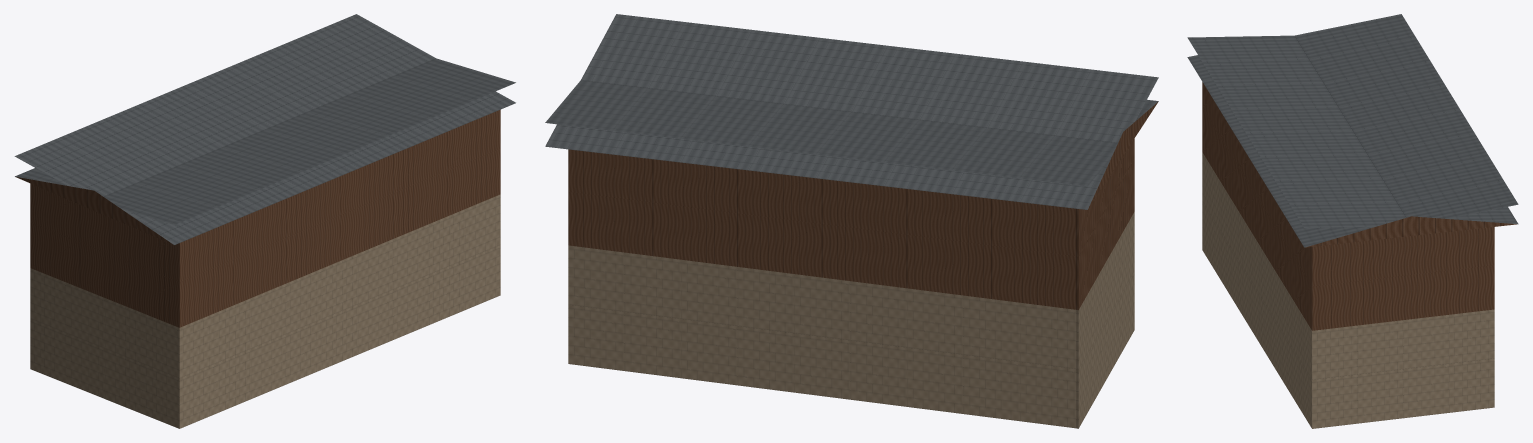
Rendered from bld_c-22_-22_809.gltf.
3 renders of one model, left to right at view 1: azimuth 30°, elevation 25°; view 2: azimuth 150°, elevation 25°; view 3: azimuth 270°, elevation 25°, orthographic. The views are drawn at different scales.
Visible parts, largest first — view 1: bld_c-22_-22_809; view 2: bld_c-22_-22_809; view 3: bld_c-22_-22_809.
Boxes of the visible parts, x1,y1,x2,y2 form: bld_c-22_-22_809: (14, 14, 515, 428); bld_c-22_-22_809: (545, 14, 1158, 428); bld_c-22_-22_809: (1187, 14, 1518, 428).
Size of the model in its own units: 23.35 by 10.5 by 15.27.
Materials: 4 (4 with a texture image).
